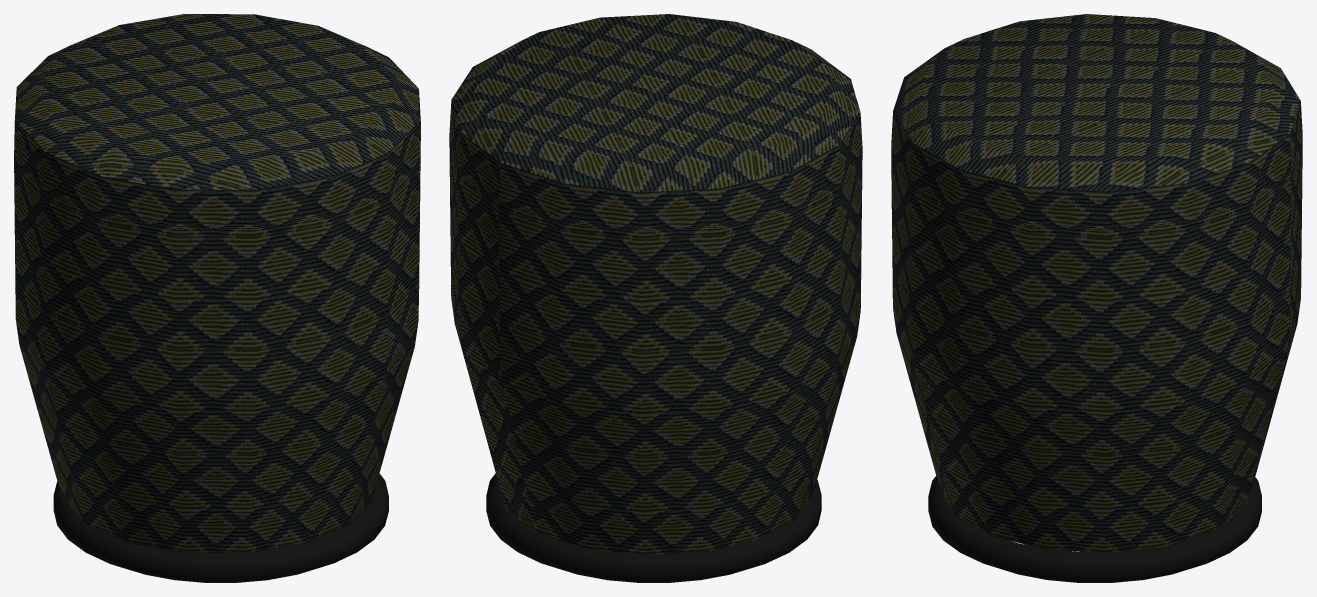
The model's file is _seat.FBX.
3 renders of one model, left to right at view 1: azimuth 30°, elevation 25°; view 2: azimuth 150°, elevation 25°; view 3: azimuth 270°, elevation 25°, orthographic.
Visible parts, largest first — view 1: Bedroom_chair_03; view 2: Bedroom_chair_03; view 3: Bedroom_chair_03.
Boxes of the visible parts, x1,y1,x2,y2 form: Bedroom_chair_03: (14,14,420,582); Bedroom_chair_03: (449,14,862,582); Bedroom_chair_03: (891,14,1302,582).
Bounding box in the file's own units: 2.6 × 3.01 × 2.6.
